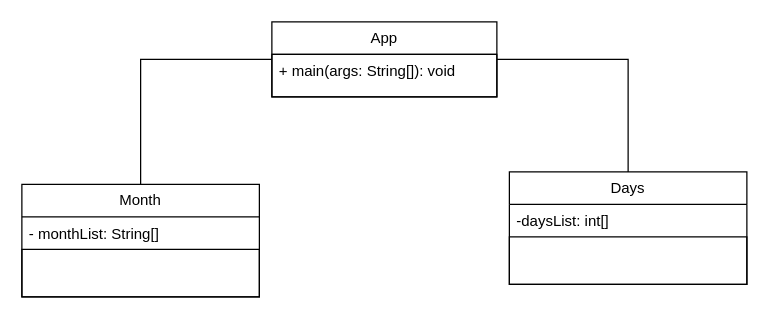
This 769x323 diagram has some shape labels left out. The box of each missing label's shape, as (x1, y1, x2, y2) in pixels:
+ monthName(month: int): String: (21, 248, 259, 297)
+ numberOfDays(month: int): int: (508, 236, 747, 284)
